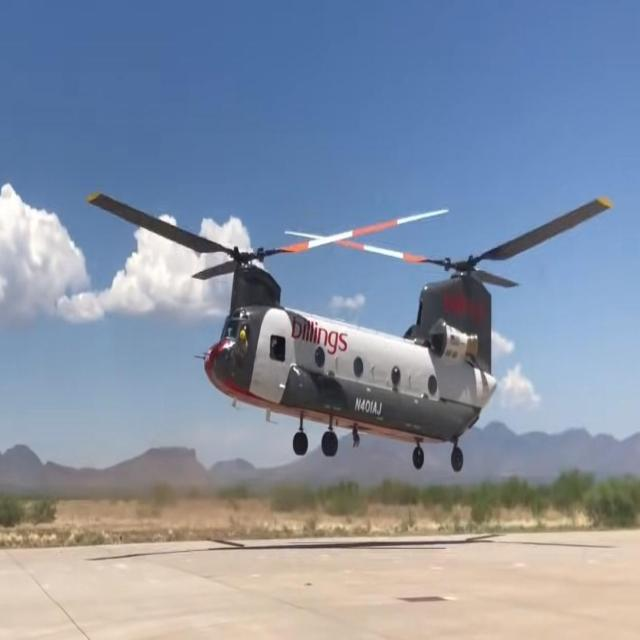Helicopter: (131, 168, 533, 492)
